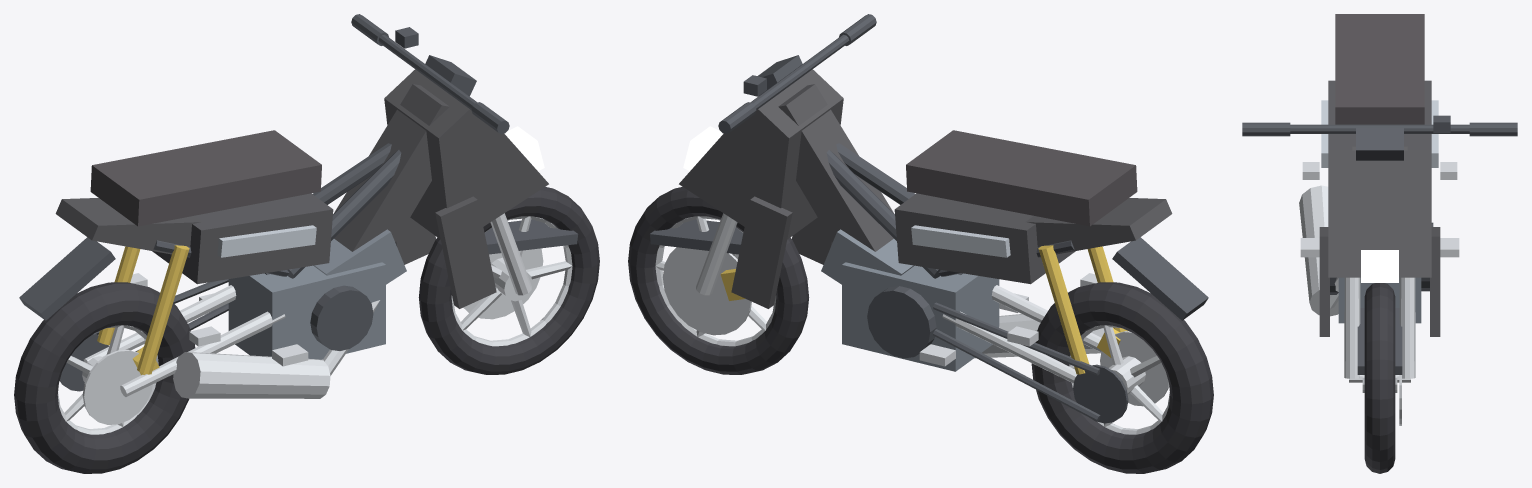
File: suzuki-fu150scd-belang-r.glb
3 renders of one model, left to right at view 1: azimuth 30°, elevation 25°; view 2: azimuth 150°, elevation 25°; view 3: azimuth 270°, elevation 25°, orthographic. The views are drawn at different scales.
Parts seen in each view (by area): view 1: Roda_Ban, Bodi_Utama, Bodi_Depan, Jok_Motor, Mesin_Blok, Knalpot, Velg_Roda, Spakbor, Piringan_Rem, Rangka, Master_Rem_Stang, Swing_Arm (+7 smaller); view 2: Roda_Ban, Bodi_Utama, Bodi_Depan, Jok_Motor, Mesin_Blok, Piringan_Rem, Spakbor, Rantai, Velg_Roda, Cover_Mesin, Rangka, Master_Rem_Stang (+7 smaller); view 3: Bodi_Depan, Jok_Motor, Roda_Ban, Master_Rem_Stang, Suspensi_Depan, Knalpot, Bodi_Utama, Footstep, Lampu_Depan, Mesin_Blok, Spakbor, Aksen_Bodi.
Boxes of the visible parts, <box> form: Roda_Ban: <box>14,186,599,473</box>; Bodi_Utama: <box>55,84,449,284</box>; Bodi_Depan: <box>384,69,548,308</box>; Jok_Motor: <box>90,130,321,226</box>; Mesin_Blok: <box>228,229,406,359</box>; Knalpot: <box>173,300,380,398</box>; Velg_Roda: <box>57,216,572,434</box>; Spakbor: <box>19,219,578,320</box>; Piringan_Rem: <box>82,248,543,424</box>; Rangka: <box>153,143,401,278</box>; Master_Rem_Stang: <box>351,14,509,133</box>; Swing_Arm: <box>83,285,285,396</box>; Roda_Ban: <box>628,186,1213,473</box>; Bodi_Utama: <box>778,84,1172,284</box>; Bodi_Depan: <box>679,69,843,308</box>; Jok_Motor: <box>906,130,1137,226</box>; Mesin_Blok: <box>821,229,999,371</box>; Piringan_Rem: <box>662,247,1169,406</box>; Spakbor: <box>649,219,1208,320</box>; Rantai: <box>933,302,1128,423</box>; Velg_Roda: <box>655,216,1170,434</box>; Cover_Mesin: <box>867,286,936,358</box>; Rangka: <box>826,143,1074,278</box>; Master_Rem_Stang: <box>718,14,876,133</box>; Bodi_Depan: <box>1319,150,1440,336</box>; Jok_Motor: <box>1335,14,1424,124</box>; Roda_Ban: <box>1364,283,1395,473</box>; Master_Rem_Stang: <box>1242,115,1517,160</box>; Suspensi_Depan: <box>1344,277,1415,382</box>; Knalpot: <box>1299,185,1338,316</box>; Bodi_Utama: <box>1328,80,1431,150</box>; Footstep: <box>1300,162,1459,257</box>; Lampu_Depan: <box>1361,250,1398,282</box>; Mesin_Blok: <box>1338,277,1421,323</box>; Spakbor: <box>1357,308,1402,374</box>; Aksen_Bodi: <box>1321,100,1438,167</box>.
Bounding box in the file's own units: 1.84 × 1.01 × 0.8.
